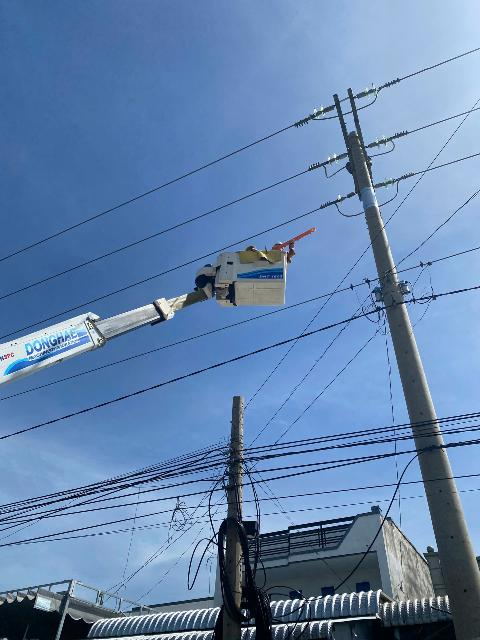gloves: (290, 239, 301, 252)
helmet: (270, 238, 288, 247)
